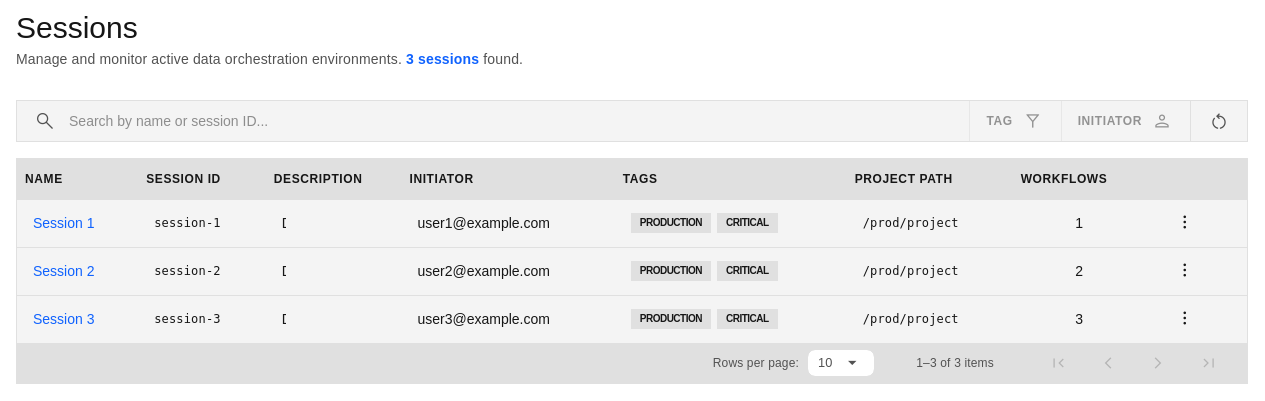
Scenario: SessionListPage › Search & Filter › should clear search with reset button
Expected: the text "Session 1" is shown, [33, 215, 94, 231]
Type "Session 1" into the field with placeholder "Search by name or session ID..." at (511, 121), box [69, 111, 952, 131]
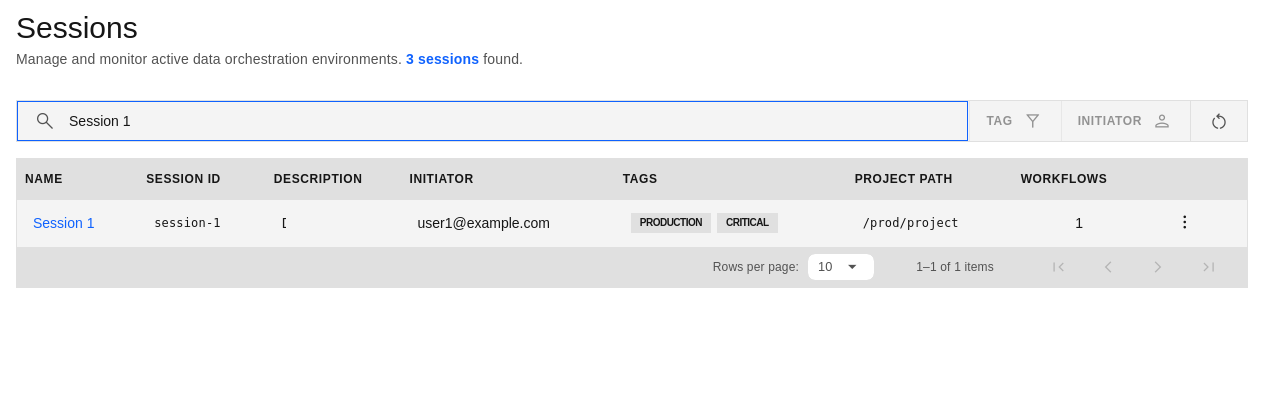
Click the button named "Reset filters" at (1218, 121), box [1190, 101, 1247, 141]
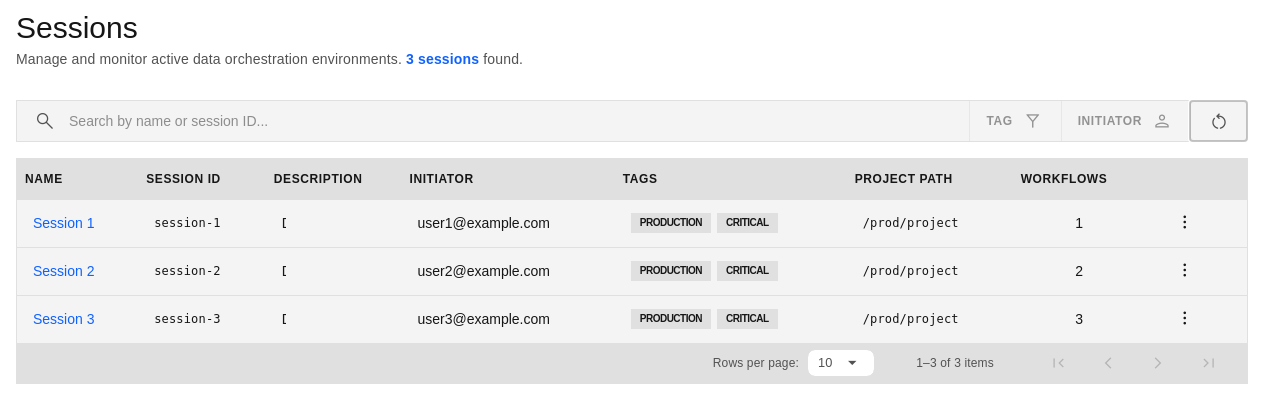
Expected: the text "Session 1" is shown, [33, 215, 94, 231]
Expected: the field with placeholder "Search by name or session ID..." is empty, [69, 111, 952, 131]
Expected: the text "Session 2" is shown, [33, 263, 94, 279]
